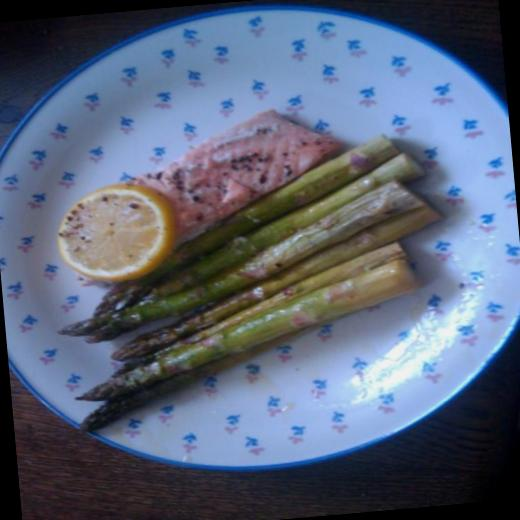Grape: (60, 172, 184, 286)
